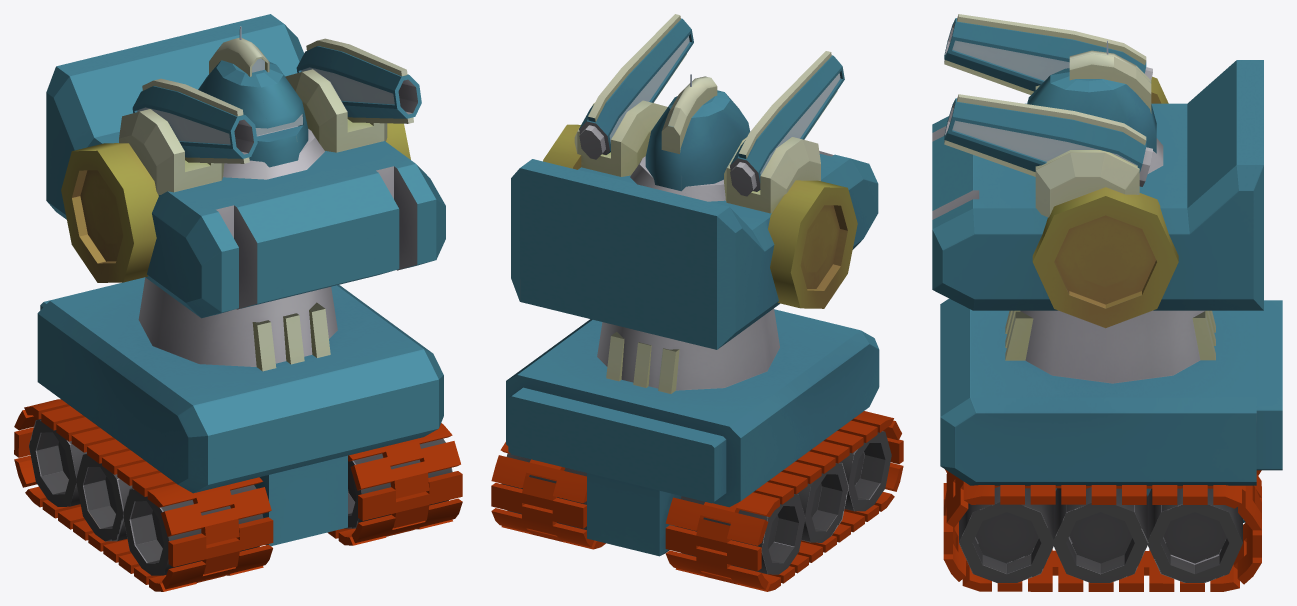
File: player_idle7.obj
The picture shows the model from 3 angles, left to right: view 1: azimuth 30°, elevation 25°; view 2: azimuth 150°, elevation 25°; view 3: azimuth 270°, elevation 25°; orthographic projection. The views are drawn at different scales.
Visible parts, largest first — view 1: Object004, Box038, Object012, Object011, Box042; view 2: Object004, Box038, Object012, Object011, Box042; view 3: Object004, Object011, Object012, Box042.
Part boxes in pixels (box(x1,y1,x2,y2)): Object004: box(37, 14, 445, 546); Box038: box(14, 399, 273, 591); Object012: box(132, 38, 421, 163); Object011: box(29, 419, 452, 575); Box042: box(327, 423, 462, 545); Object004: box(506, 76, 879, 556); Box038: box(665, 411, 903, 591); Object012: box(579, 14, 844, 196); Object011: box(501, 431, 891, 574); Box042: box(491, 442, 605, 549); Object004: box(932, 50, 1282, 522); Object011: box(959, 486, 1242, 582); Object012: box(944, 14, 1152, 186); Box042: box(943, 471, 1261, 591).
Size of the model in its own units: 110 by 175 by 115.
Materials: 3 (1 with a texture image).
